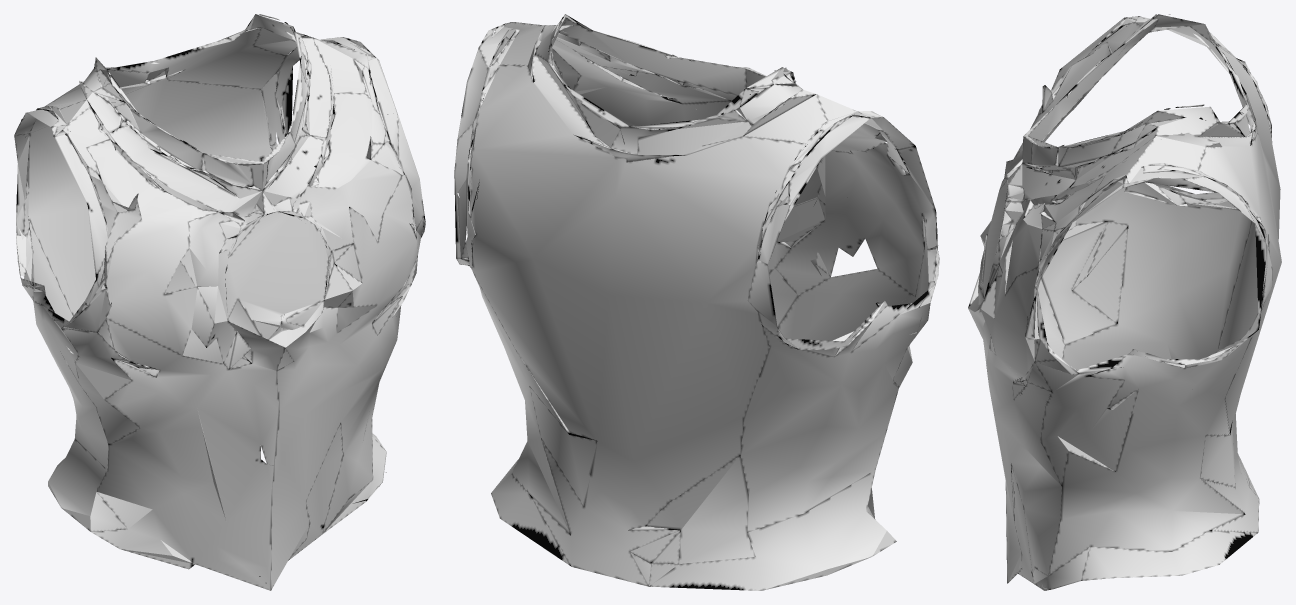
The model's file is vampire_chestplate_v3_lc_LOD2.glb.
The picture shows the model from 3 angles, left to right: view 1: azimuth 30°, elevation 25°; view 2: azimuth 150°, elevation 25°; view 3: azimuth 270°, elevation 25°; orthographic projection. The views are drawn at different scales.
Visible parts, largest first — view 1: vampire_chestplate_v3_lc_LOD2; view 2: vampire_chestplate_v3_lc_LOD2; view 3: vampire_chestplate_v3_lc_LOD2.
Part boxes in pixels (x1,y1,x2,y2): vampire_chestplate_v3_lc_LOD2: (14, 14, 425, 590); vampire_chestplate_v3_lc_LOD2: (454, 14, 939, 590); vampire_chestplate_v3_lc_LOD2: (968, 14, 1281, 590).
Bounding box in the file's own units: 0.7216 × 0.948 × 0.5153.
1 material, 1 textured.
